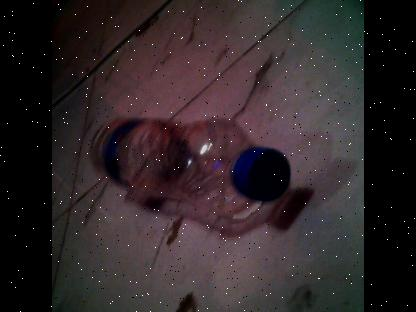Plastic Bottle: (88, 114, 290, 229)
